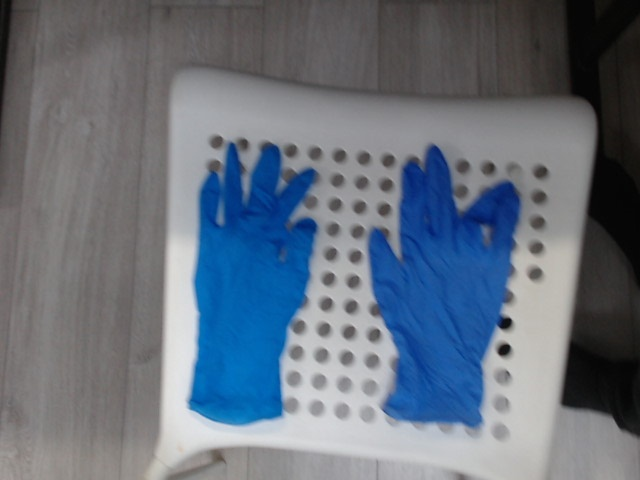medical_glove: (370, 145, 520, 428), (189, 144, 317, 424)
